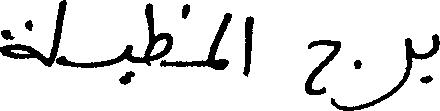X: (366, 33, 411, 110), (308, 35, 340, 110), (145, 0, 172, 71), (0, 15, 37, 63), (208, 8, 231, 74), (49, 0, 64, 71), (429, 29, 439, 86), (122, 40, 132, 89), (244, 11, 251, 81)
